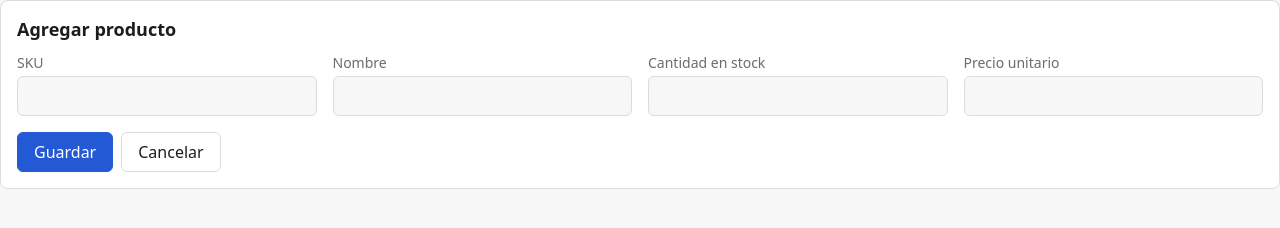
Test case: AddProductForm › muestra junto al SKU el error 409 del servidor
The width and height of the screenshot is (1280, 228).
Step 1. Type "alt-02" into the field labelled "SKU" → (167, 96), box [17,76,316,116]
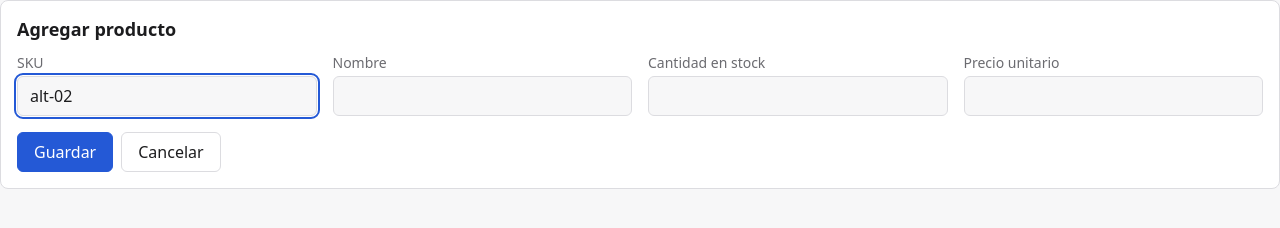
Step 2. Type "Radiador" into the field labelled "Nombre" → (482, 96), box [332,76,632,116]
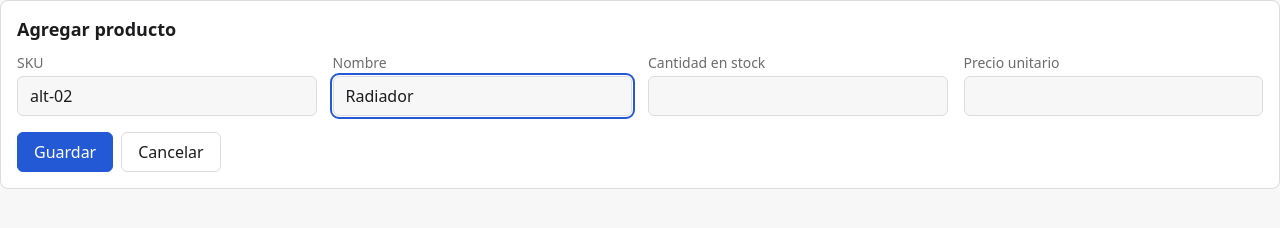
Step 3. Type "8" into the field labelled "Cantidad en stock" → (798, 96), box [648,76,948,116]
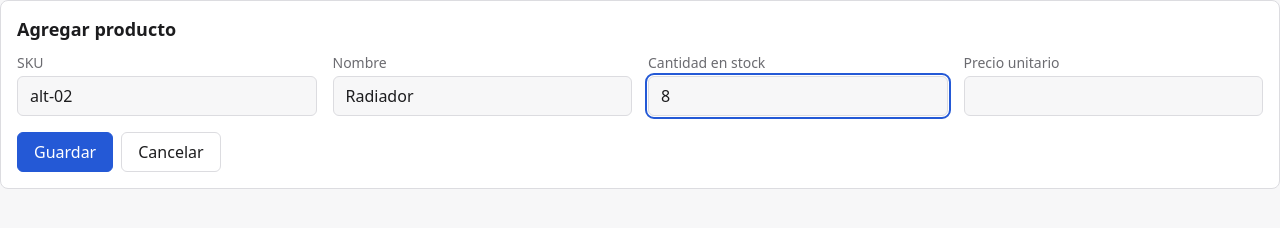
Step 4. Type "350000,50" into the field labelled "Precio unitario" → (1113, 96), box [964,76,1263,116]
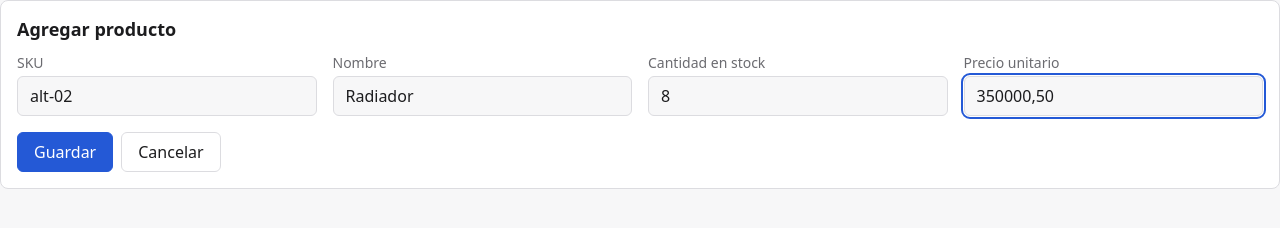
Step 5. Click the button "Guardar" → (65, 152), box [17,132,113,172]
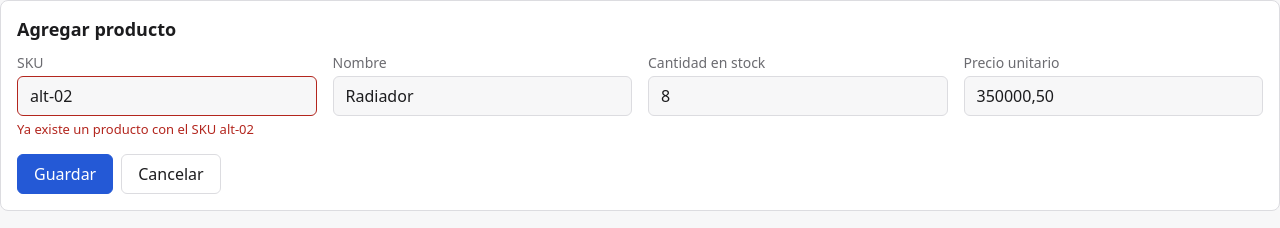
Expected: the button "Guardar" is enabled, [17,154,113,194]
Now the text "Ya existe un producto con el SKU alt-02" is shown, box [17,120,254,138]
